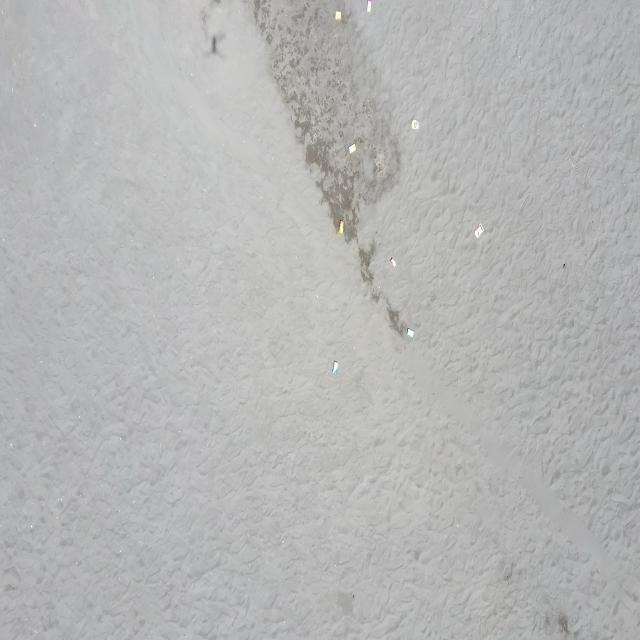Garbage: (473, 224, 483, 238), (337, 220, 343, 233), (388, 257, 395, 267), (411, 119, 419, 127), (332, 360, 337, 372), (348, 143, 355, 151), (367, 0, 371, 12), (407, 327, 412, 336), (335, 11, 340, 20)
